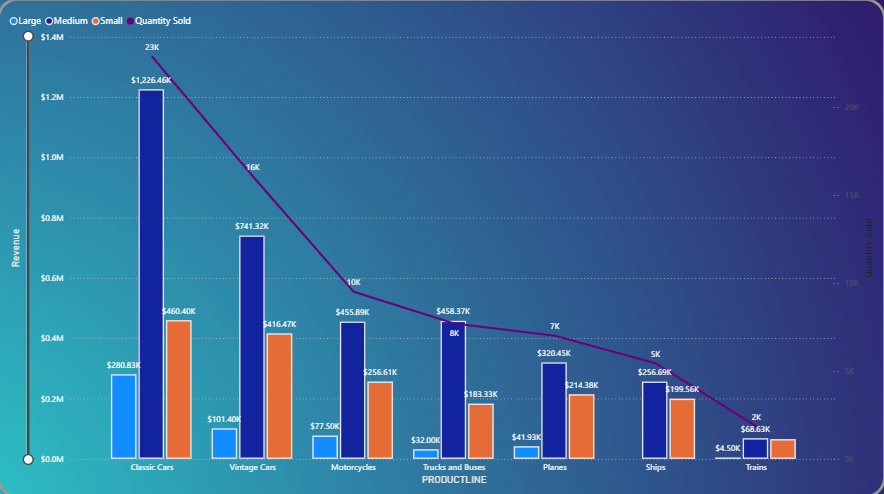

The page's visual inventory and layout, read from the dashboard file:
{"tool":"powerbi","page":{"name":"Combo Chart","canvas":[1280,720],"ordinal":9},"visuals":[{"type":"lineClusteredColumnComboChart","fields":{"Category":["Vehicle Orders.PRODUCTLINE"],"Series":["Vehicle Orders.DEALSIZE"],"Y":["Measure Table.Revenue"],"Y2":["Measure Table.Quantity Sold"]},"box":[0,0,1280,720],"z":0}]}

Visuals, with their boxes in screenshot pixels (x1, y1, x2, y2), scaled from the page's 1280x720 canvas onto the 884x494 screenshot:
lineClusteredColumnComboChart - Vehicle Orders.PRODUCTLINE x Vehicle Orders.DEALSIZE: locate(0, 0, 883, 493)
